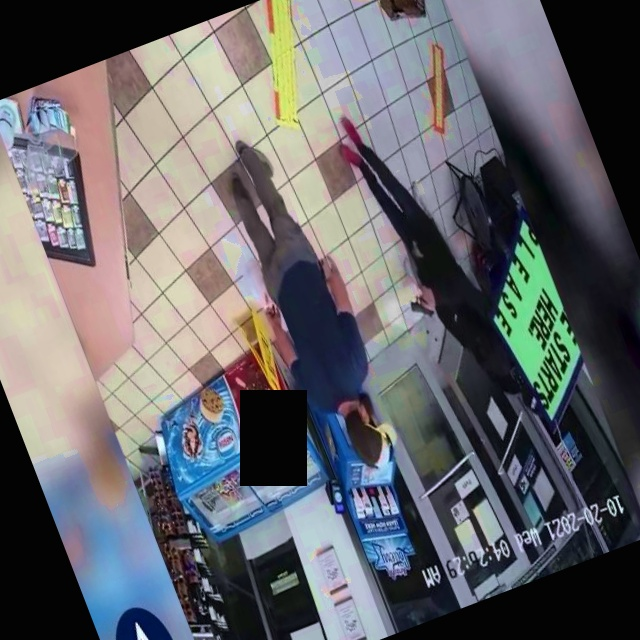gun: (397, 273, 448, 335)
